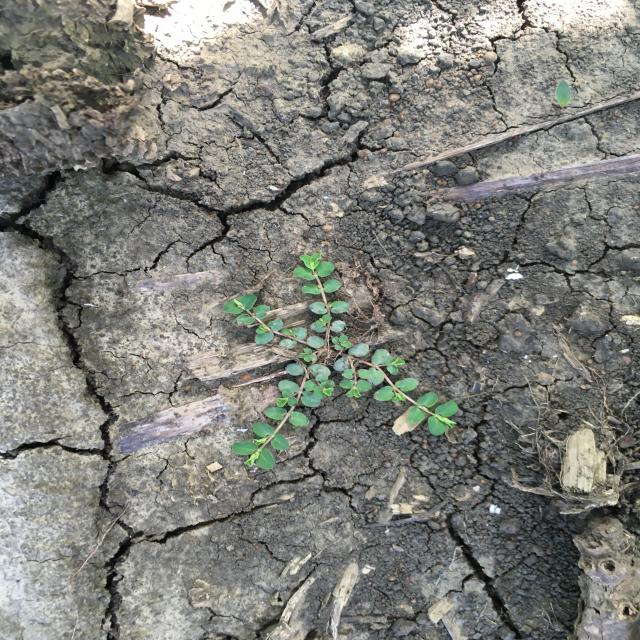SpottedSpurge: (219, 252, 461, 470)
